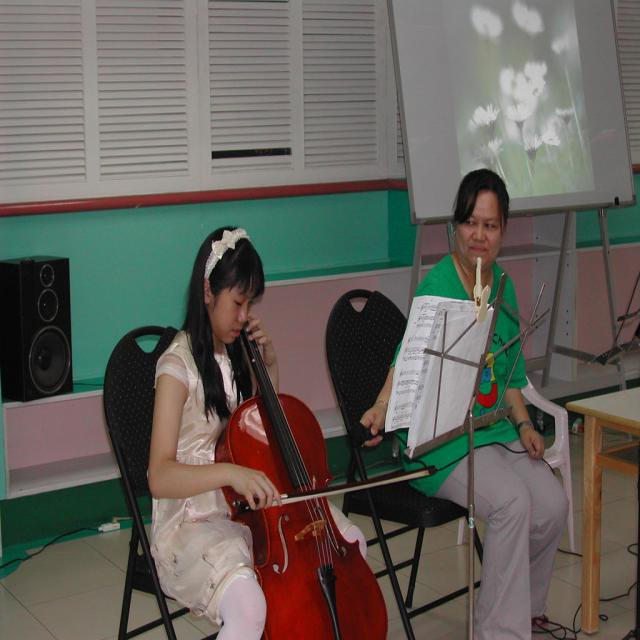cello: (212, 303, 390, 639)
